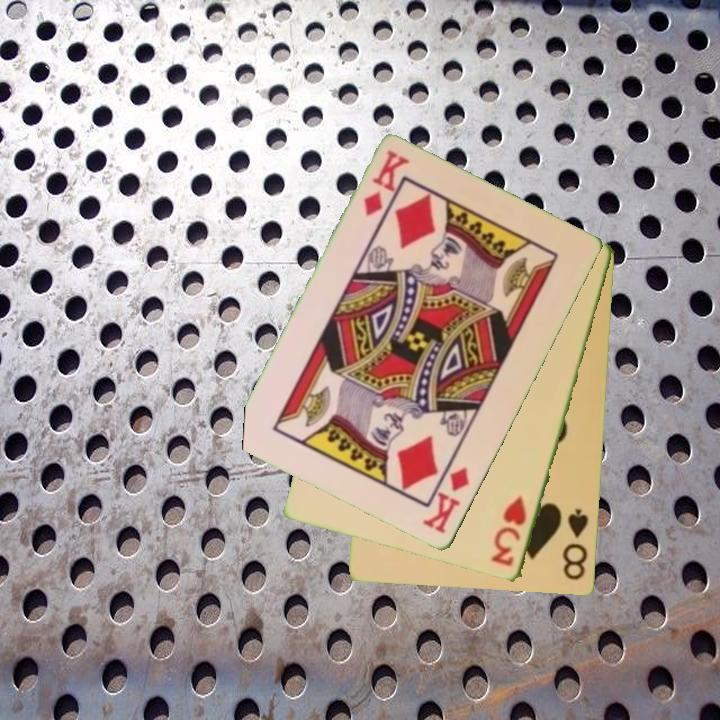3h: (488, 493, 530, 570)
8s: (559, 505, 592, 584)
Kd: (420, 464, 472, 537), (360, 147, 412, 220)
